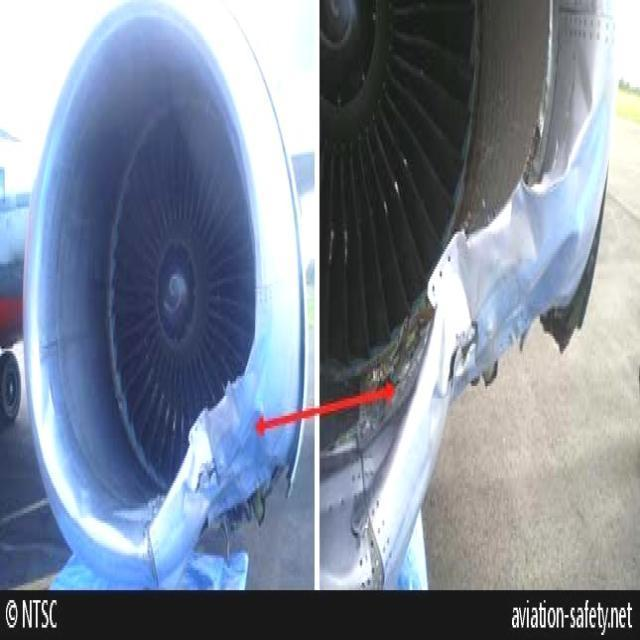dent: (562, 43, 594, 182), (442, 229, 480, 346), (508, 182, 545, 264)
